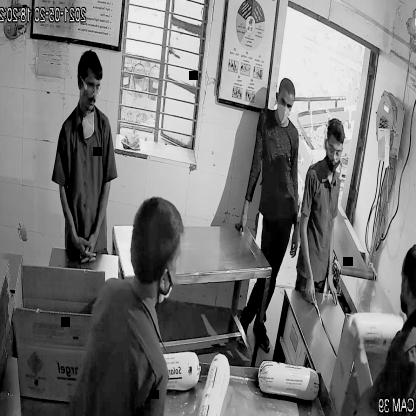goggles: (78, 78, 102, 98), (325, 142, 343, 160)
no_goggles: (274, 93, 296, 110)
